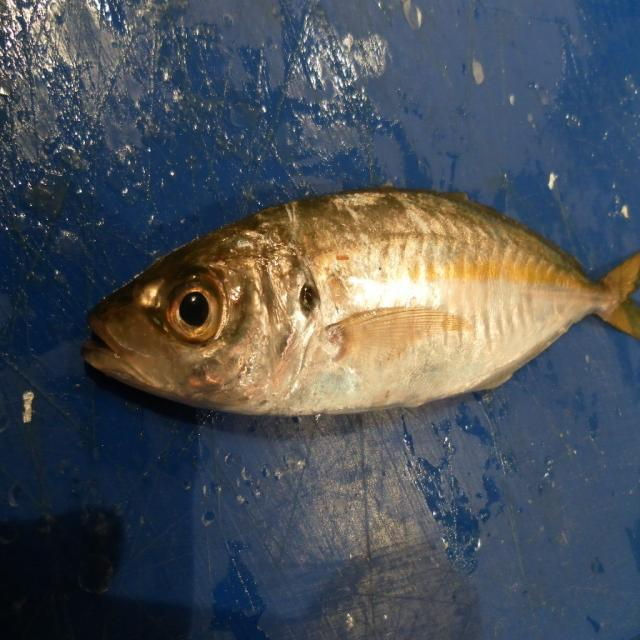Hourse-Mackerel-istavrit-: (81, 188, 640, 420)
